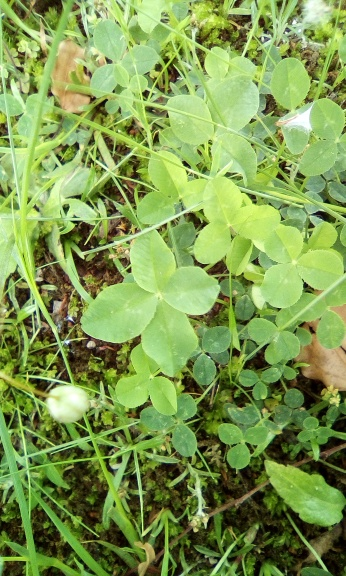4leaf: (79, 228, 222, 368)
